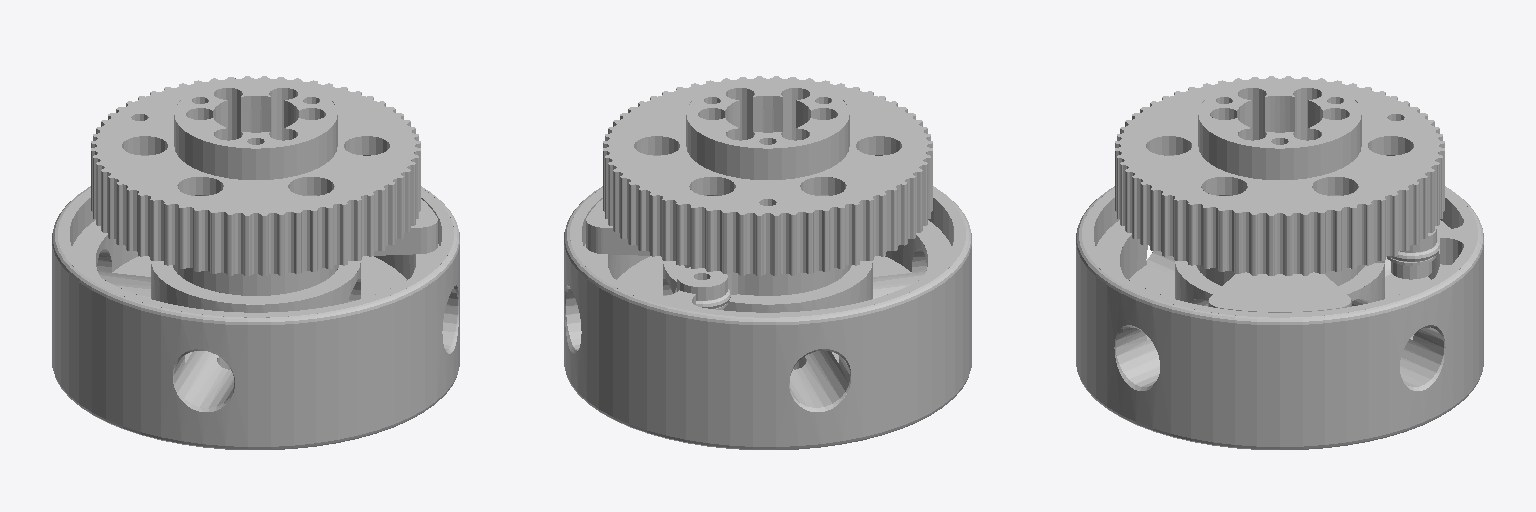
File: Endeffector.obj
3 renders of one model, left to right at view 1: azimuth 30°, elevation 25°; view 2: azimuth 150°, elevation 25°; view 3: azimuth 270°, elevation 25°, orthographic.
Parts seen in each view (by area): view 1: Srf1; view 2: Srf1; view 3: Srf1.
Boxes of the visible parts, x1,y1,x2,y2 form: Srf1: [52, 76, 459, 449]; Srf1: [564, 76, 971, 449]; Srf1: [1076, 76, 1483, 449].
Bounding box in the file's own units: 70 × 53.63 × 70.